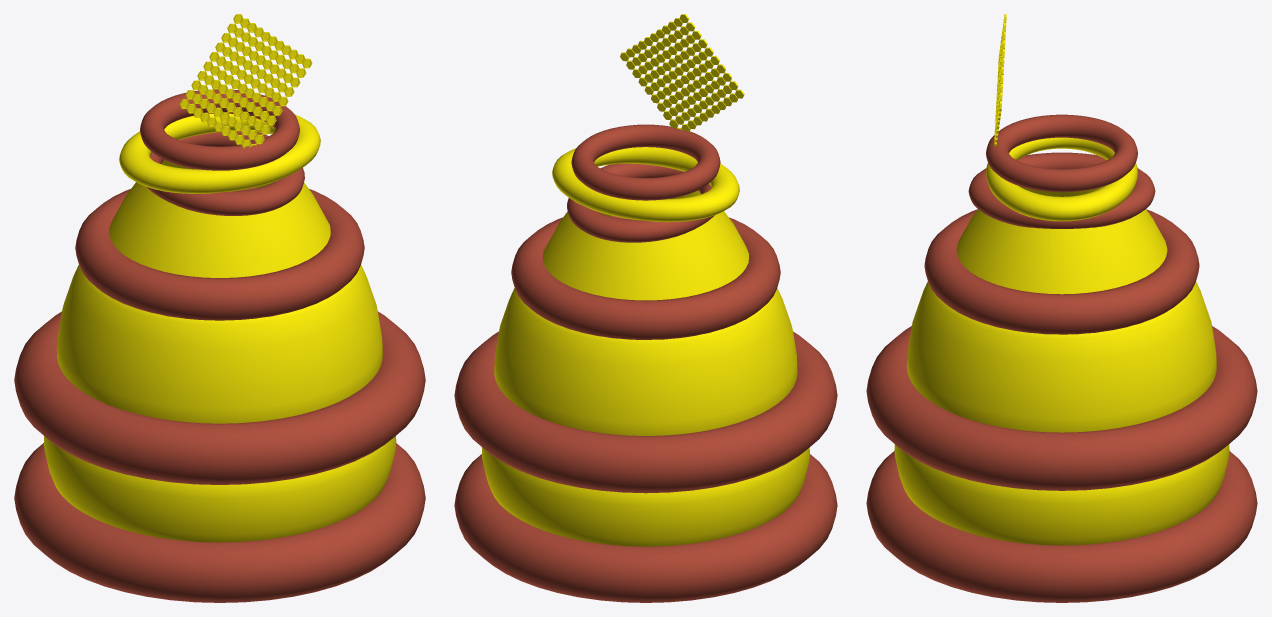
Rendered from beeHouse.fbx.
3 views of the same model, side by side, from view 1: azimuth 30°, elevation 25°; view 2: azimuth 150°, elevation 25°; view 3: azimuth 270°, elevation 25° (orthographic). The views are drawn at different scales.
Parts seen in each view (by area): view 1: Circle.001, Torus.001, Torus, Circle, Torus.002, Circle.002, Circle.003, Torus.004, Torus.005, Torus.003; view 2: Circle.001, Torus.001, Torus, Circle, Torus.002, Circle.002, Circle.003, Torus.005, Torus.004, Torus.003; view 3: Circle.001, Torus.001, Torus, Circle, Torus.002, Circle.002, Torus.005, Torus.004, Torus.003, Circle.003.
Boxes of the visible parts, bbox=[...] form: Circle.001: bbox=[57, 265, 382, 423]; Torus.001: bbox=[14, 311, 425, 484]; Torus: bbox=[14, 443, 425, 602]; Circle: bbox=[43, 436, 396, 542]; Torus.002: bbox=[75, 187, 364, 320]; Circle.002: bbox=[109, 160, 330, 277]; Circle.003: bbox=[179, 14, 312, 148]; Torus.004: bbox=[119, 113, 320, 193]; Torus.005: bbox=[140, 89, 299, 170]; Torus.003: bbox=[146, 131, 304, 215]; Circle.001: bbox=[494, 288, 797, 435]; Torus.001: bbox=[454, 331, 837, 493]; Torus: bbox=[454, 454, 837, 602]; Circle: bbox=[482, 447, 809, 546]; Torus.002: bbox=[511, 216, 780, 339]; Circle.002: bbox=[543, 190, 748, 300]; Circle.003: bbox=[620, 14, 744, 131]; Torus.005: bbox=[571, 124, 720, 200]; Torus.004: bbox=[552, 147, 739, 222]; Torus.003: bbox=[567, 163, 714, 242]; Circle.001: bbox=[907, 281, 1216, 432]; Torus.001: bbox=[866, 326, 1257, 490]; Torus: bbox=[866, 451, 1257, 602]; Circle: bbox=[894, 444, 1229, 545]; Torus.002: bbox=[924, 209, 1199, 334]; Circle.002: bbox=[956, 186, 1167, 294]; Torus.005: bbox=[986, 114, 1137, 192]; Torus.004: bbox=[986, 137, 1137, 221]; Torus.003: bbox=[968, 152, 1155, 228]; Circle.003: bbox=[994, 14, 1006, 146].
Size of the model in its own units: 330 by 475 by 330.
